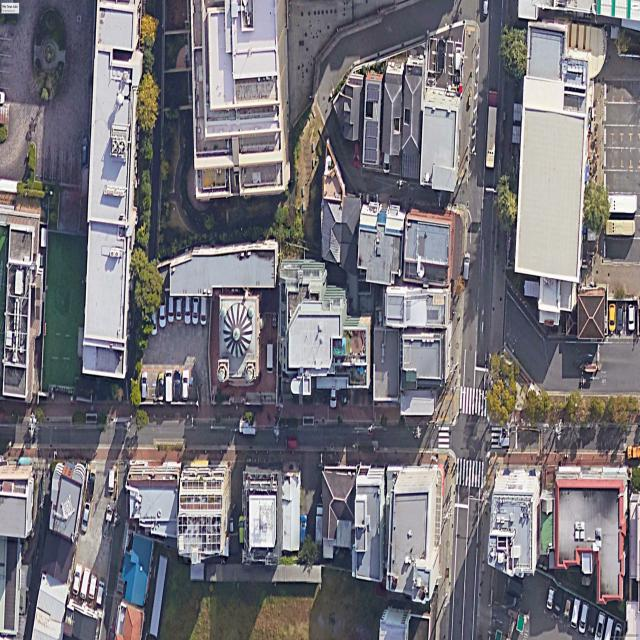Home: (321, 140, 362, 274), (322, 466, 358, 558), (401, 55, 424, 179), (121, 534, 153, 607), (382, 61, 404, 157), (362, 71, 383, 166), (334, 74, 363, 142), (280, 471, 301, 552), (116, 605, 144, 640)
mosque: (217, 292, 261, 386)
